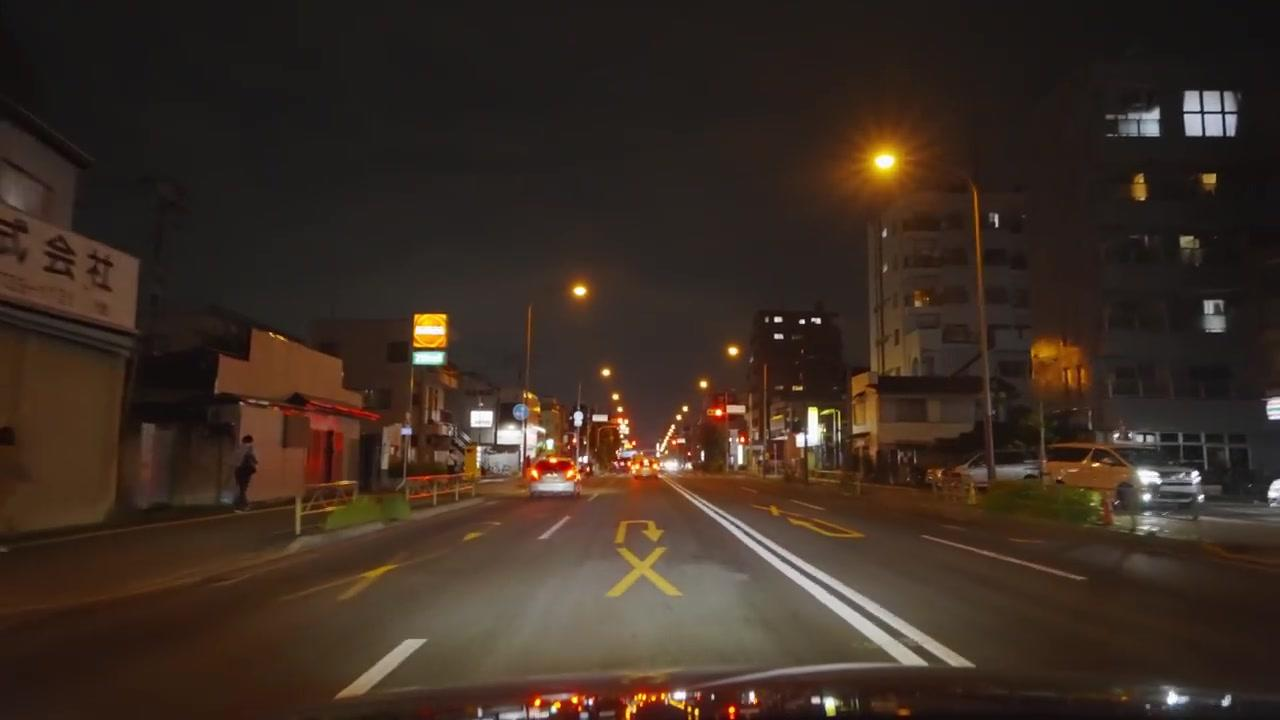car: (1033, 439, 1205, 516), (943, 451, 1042, 490), (525, 455, 580, 498), (1268, 477, 1280, 507)
person: (232, 434, 260, 511)
traffic light: (709, 403, 725, 422)
